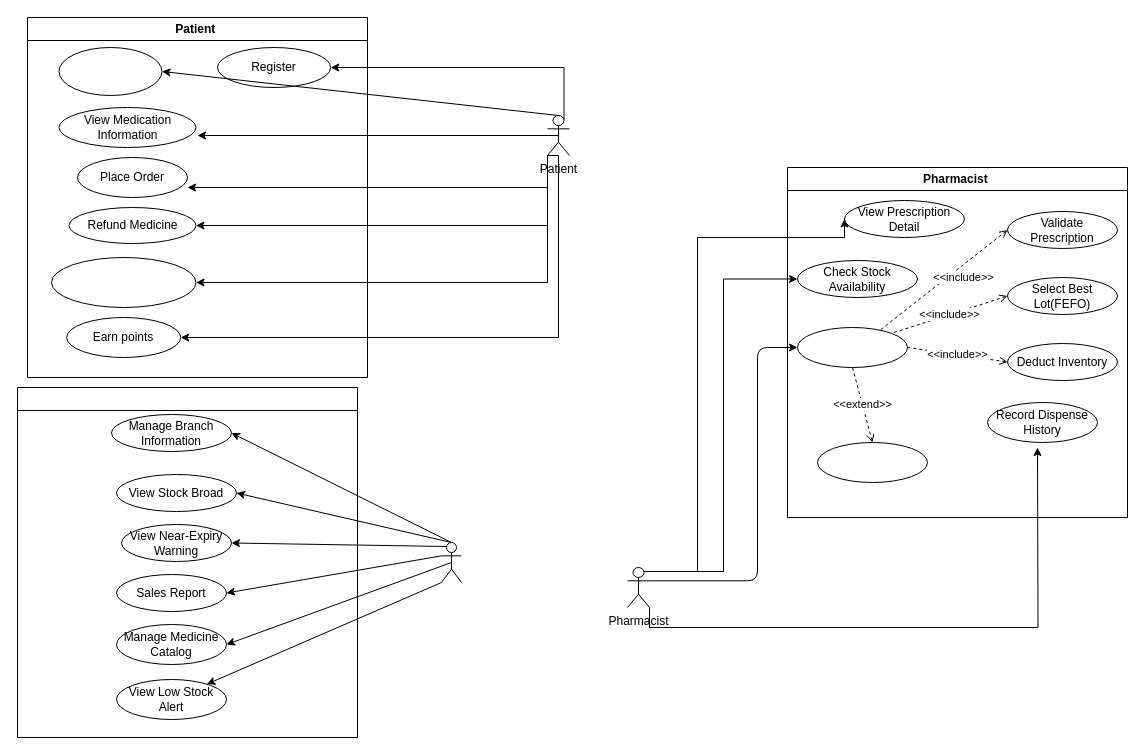
Some shapes in this 1145 by 755 pixel diagram are drawn without their labels. Here are the shapes that lost their labels. From the top down, the box of each, then its label:
(58, 46, 162, 96): Login
(50, 256, 196, 308): View Medication History
(796, 326, 908, 368): Dispense Medicine
(816, 442, 928, 482): Trigger Already Dispensed
(16, 386, 358, 738): Stock and Branch Managenment
(440, 542, 462, 582): Stock Manager
